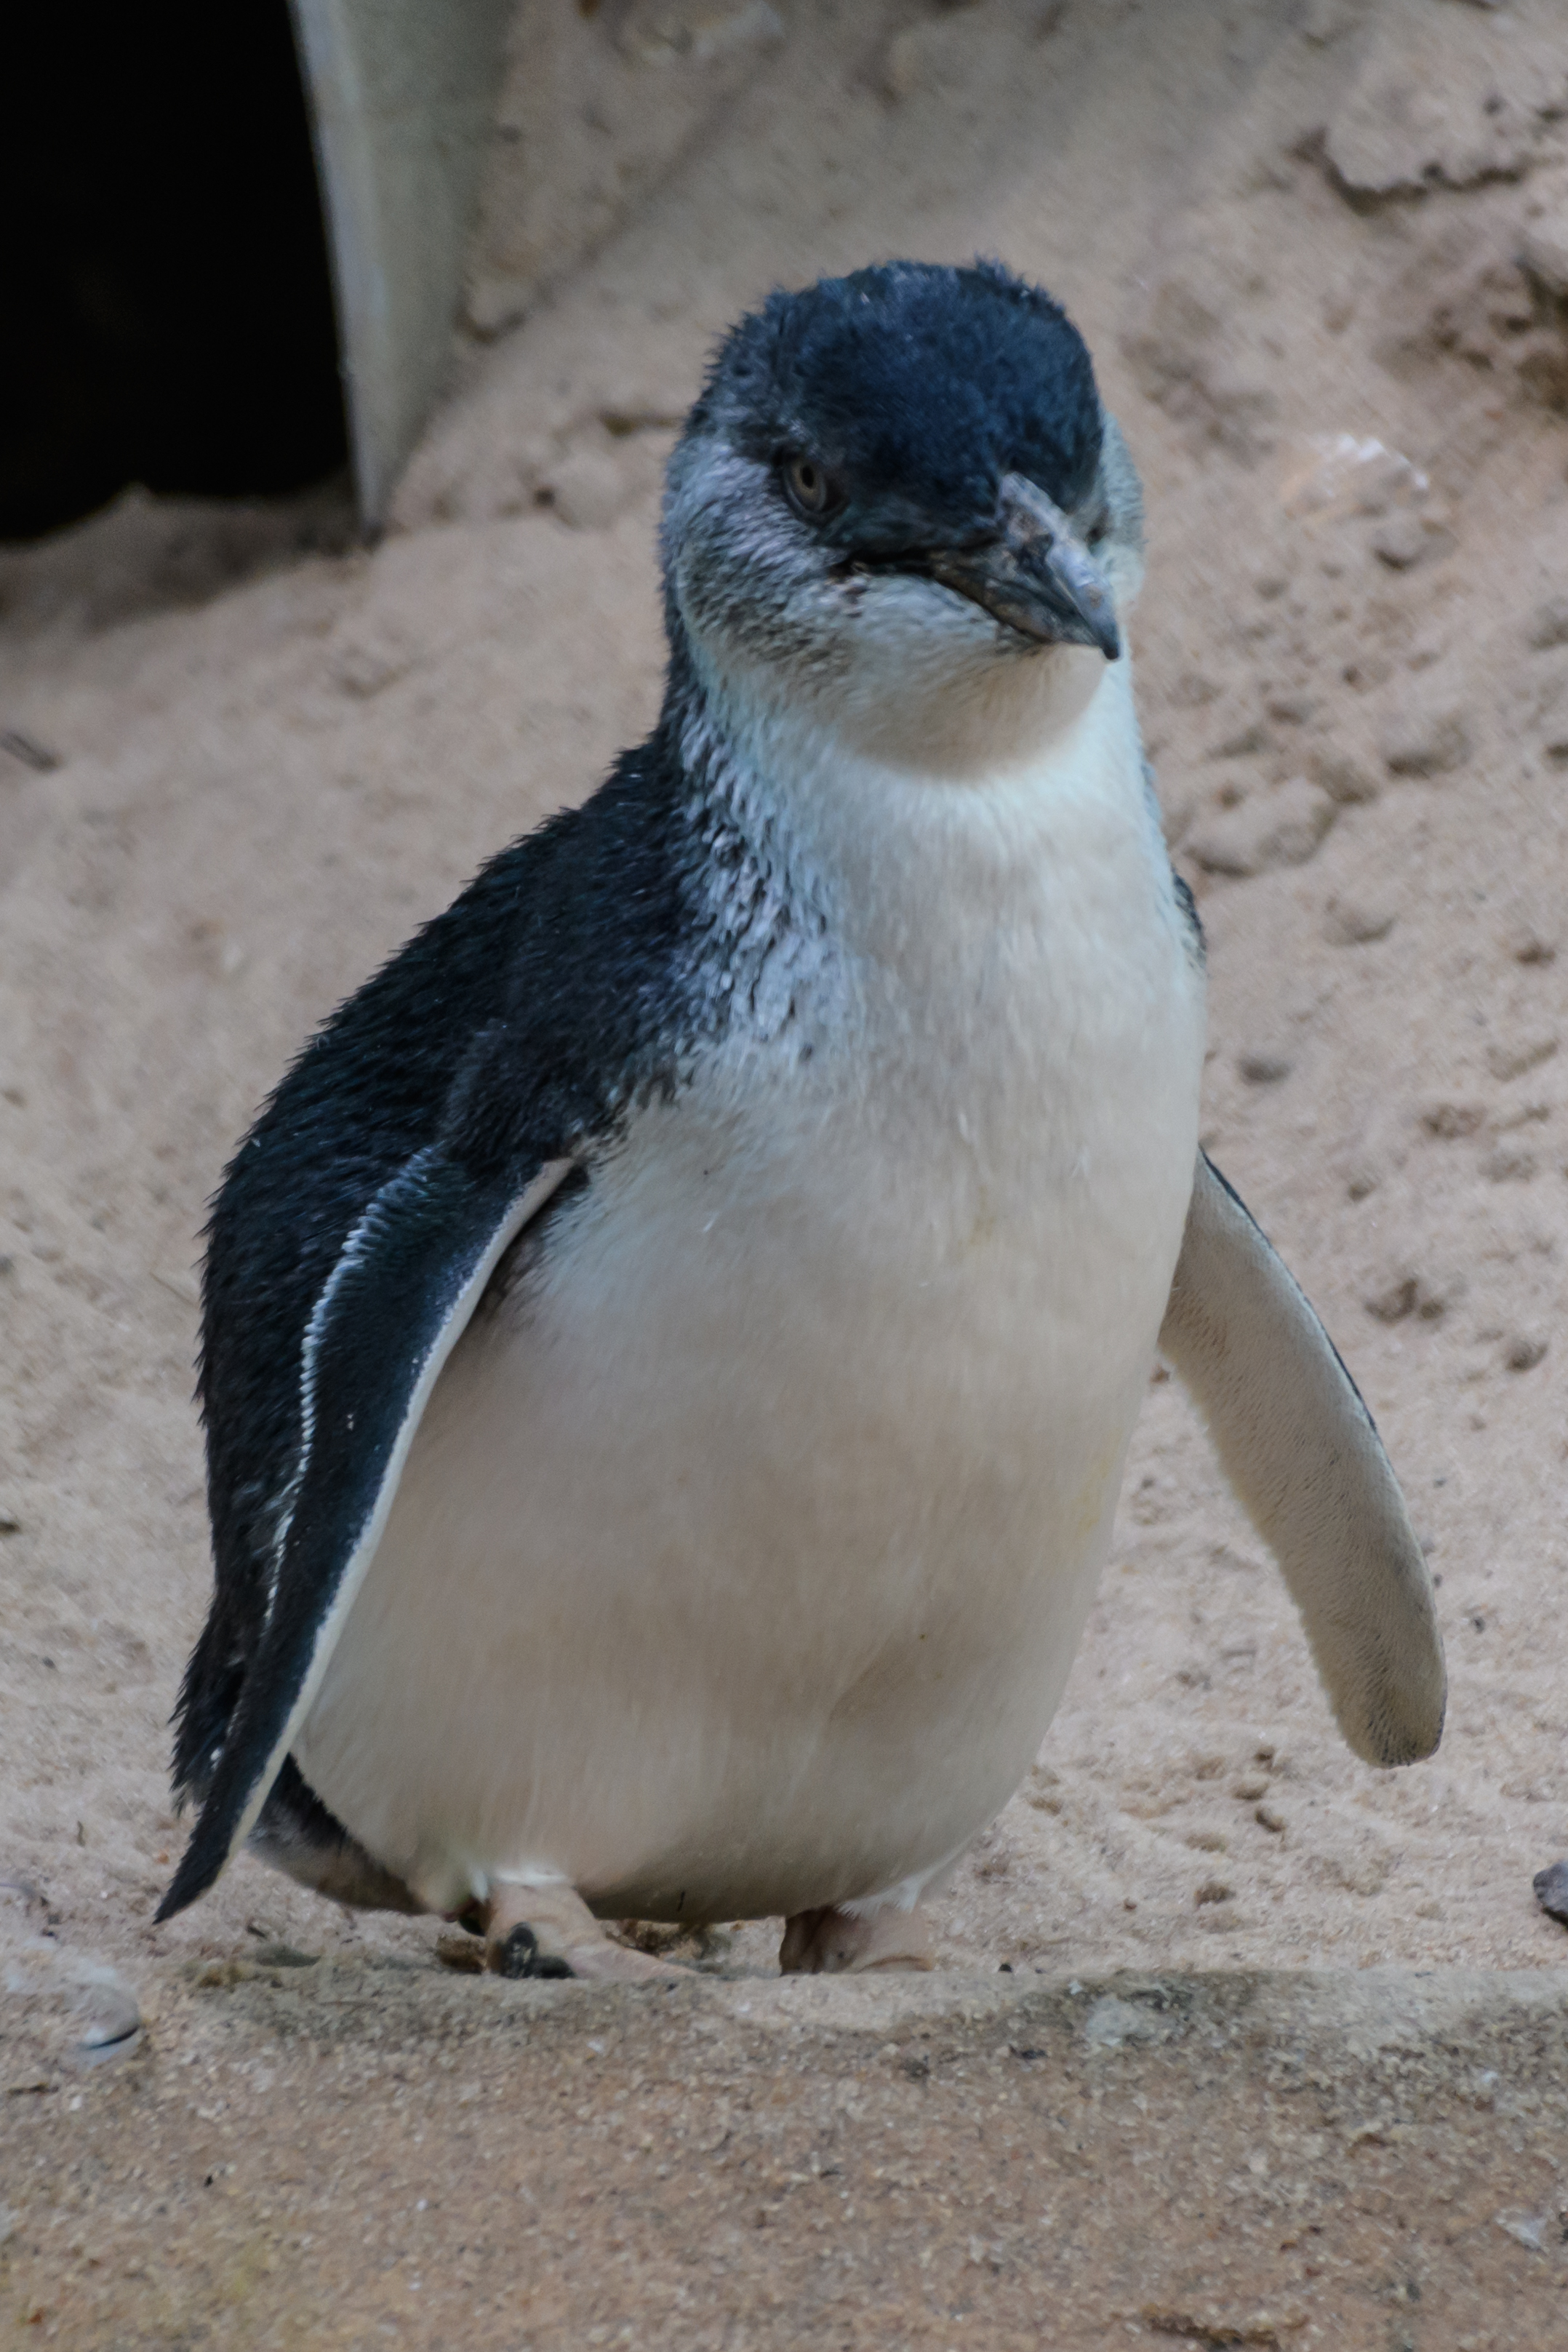penguin: (168, 243, 1452, 2028)
